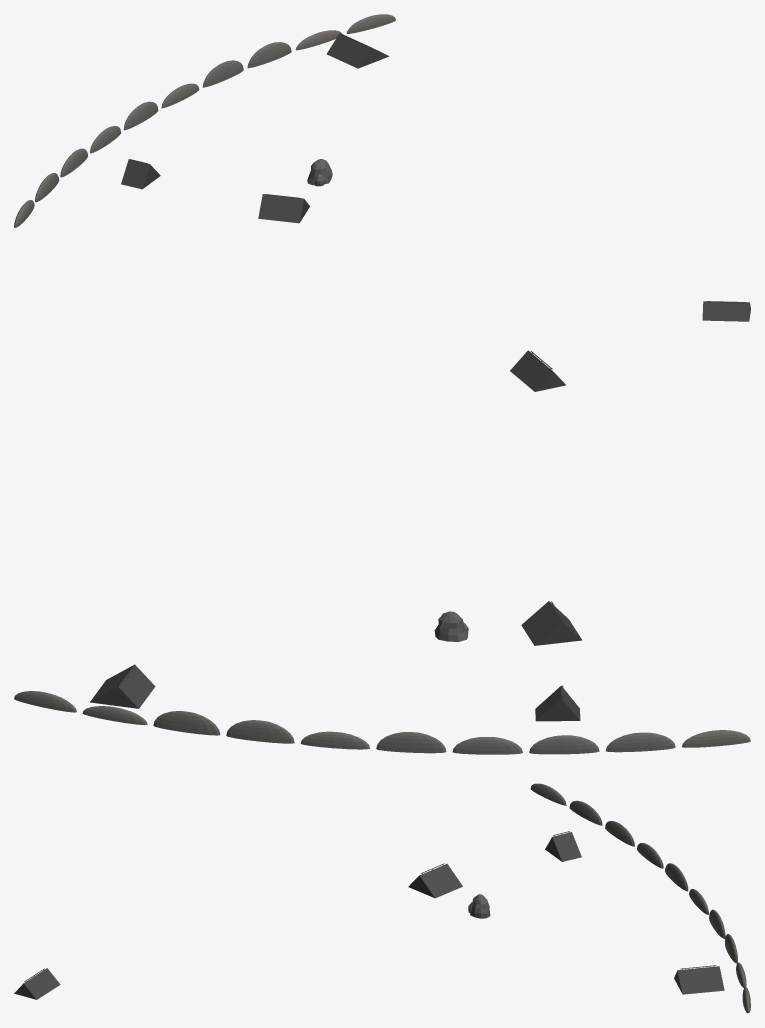
The model's file is SM_City_MukhayyamAlNiran_2.fbx.
The picture shows the model from 3 angles, top to bottom: view 1: azimuth 30°, elevation 25°; view 2: azimuth 150°, elevation 25°; view 3: azimuth 270°, elevation 25°; orthographic projection. The views are drawn at different scales.
Parts seen in each view (by area): view 1: SM_City_MukhayyamAlNiran_2; view 2: SM_City_MukhayyamAlNiran_2; view 3: SM_City_MukhayyamAlNiran_2.
Boxes of the visible parts, x1,y1,x2,y2 form: SM_City_MukhayyamAlNiran_2: (14,14,750,321); SM_City_MukhayyamAlNiran_2: (14,350,750,754); SM_City_MukhayyamAlNiran_2: (14,783,750,1013).
Bounding box in the file's own units: 8063 × 315 × 11161.
4 materials, 4 textured.
